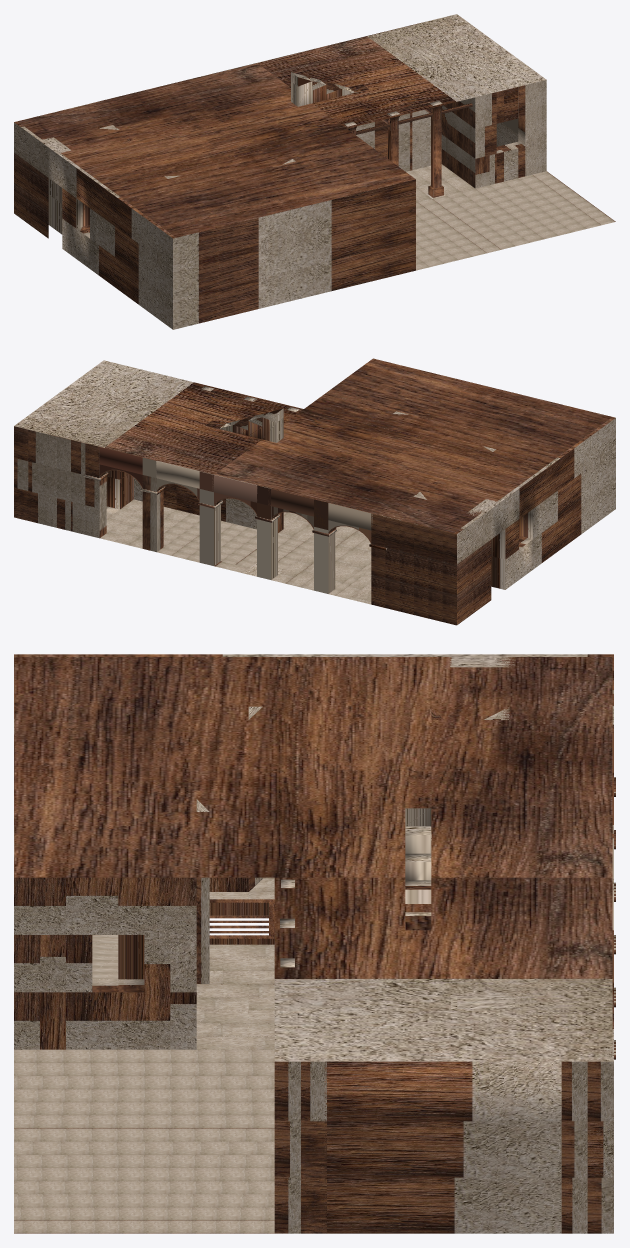
Rendered from trapiche.obj.
3 renders of one model, top to bottom at view 1: azimuth 30°, elevation 25°; view 2: azimuth 150°, elevation 25°; view 3: azimuth 270°, elevation 25°, orthographic. The views are drawn at different scales.
Visible parts, largest first — view 1: Plane.000; view 2: Plane.000; view 3: Plane.000.
Boxes of the visible parts, x1,y1,x2,y2 form: Plane.000: [14, 14, 615, 329]; Plane.000: [14, 358, 615, 625]; Plane.000: [14, 654, 615, 1233].
Bounding box in the file's own units: 34.33 × 9.25 × 21.43.
